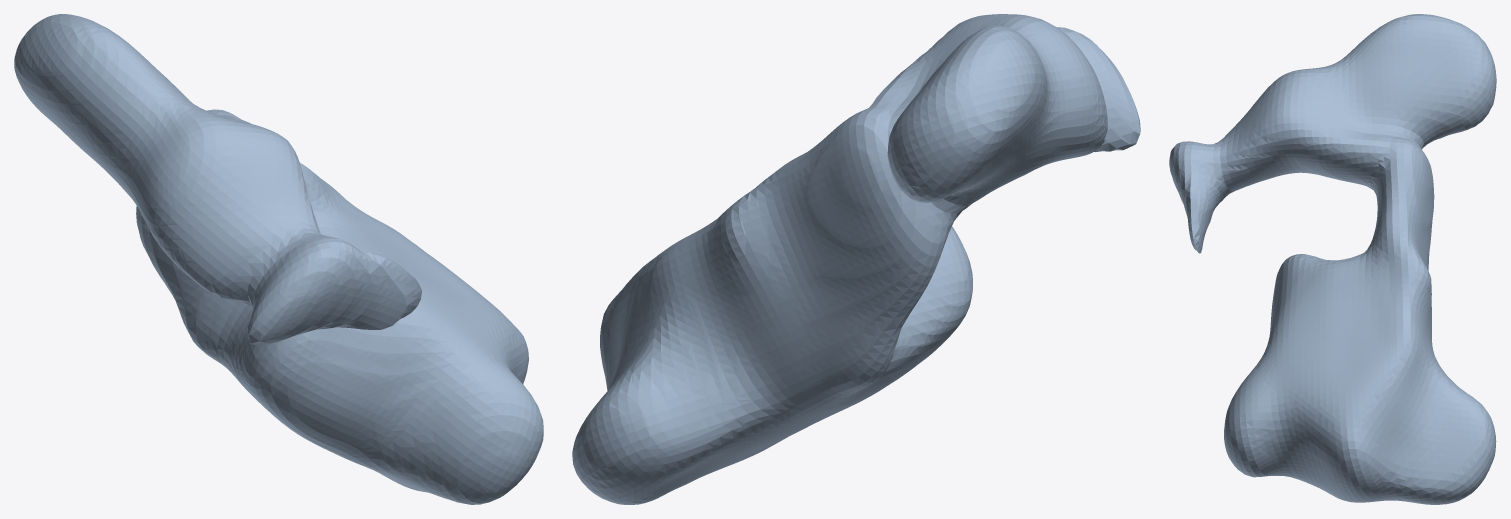
The picture shows the model from 3 angles, left to right: view 1: azimuth 30°, elevation 25°; view 2: azimuth 150°, elevation 25°; view 3: azimuth 270°, elevation 25°; orthographic projection. The views are drawn at different scales.
Parts seen in each view (by area): view 1: 260_mesh; view 2: 260_mesh; view 3: 260_mesh.
Boxes of the visible parts, left/top/right/bottom form: 260_mesh: left=14, top=14, right=543, bottom=504; 260_mesh: left=572, top=14, right=1140, bottom=504; 260_mesh: left=1169, top=14, right=1496, bottom=504.
Size of the model in its own units: 0.4881 by 0.5271 by 0.4202.
